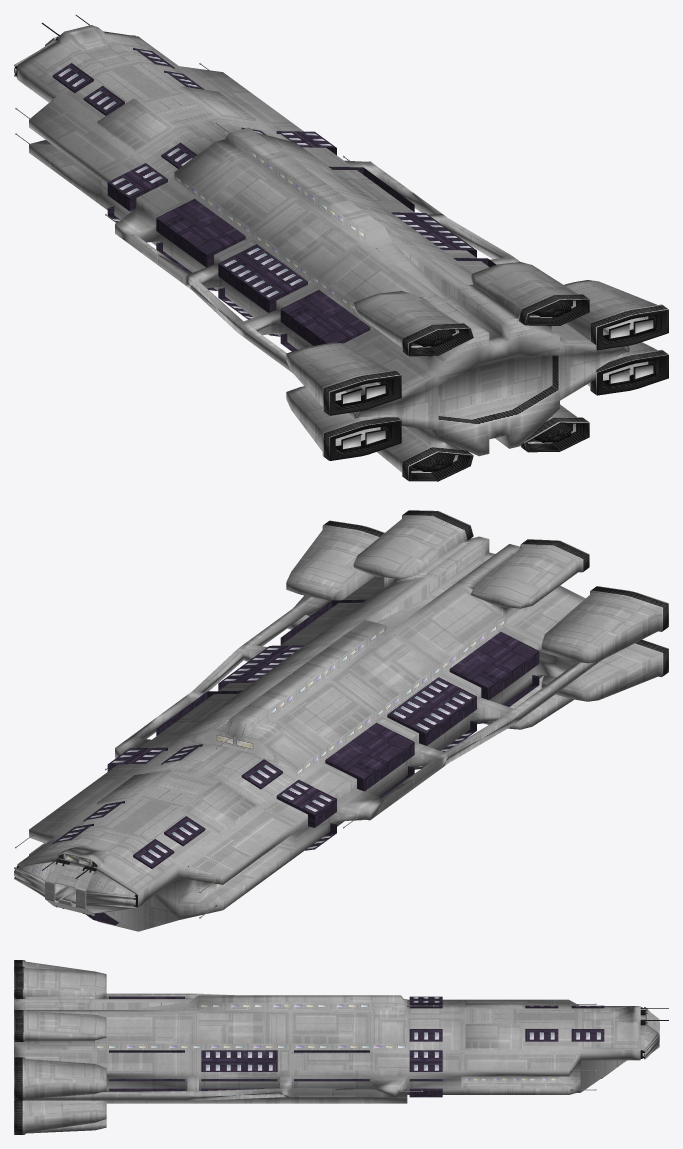
Rendered from StarTransportOnly.obj.
3 renders of one model, top to bottom at view 1: azimuth 30°, elevation 25°; view 2: azimuth 150°, elevation 25°; view 3: azimuth 270°, elevation 25°, orthographic. The views are drawn at different scales.
Visible parts, largest first — view 1: MainShipLorean_Cube.001, Cube.020_Cube.023; view 2: MainShipLorean_Cube.001, Cube.020_Cube.023, Cube_Cube.002, Cube.008_Cube.036; view 3: MainShipLorean_Cube.001, Cube.020_Cube.023.
Part boxes in pixels (x1,y1,x2,y2): MainShipLorean_Cube.001: (17, 15, 668, 481); Cube.020_Cube.023: (52, 48, 496, 351); MainShipLorean_Cube.001: (17, 510, 668, 931); Cube.020_Cube.023: (52, 599, 539, 868); Cube_Cube.002: (45, 861, 94, 899); Cube.008_Cube.036: (86, 892, 135, 908); MainShipLorean_Cube.001: (14, 960, 668, 1134); Cube.020_Cube.023: (109, 996, 604, 1097).
Bounding box in the file's own units: 25.2 × 10.78 × 56.64.
Materials: 12 (8 with a texture image).
